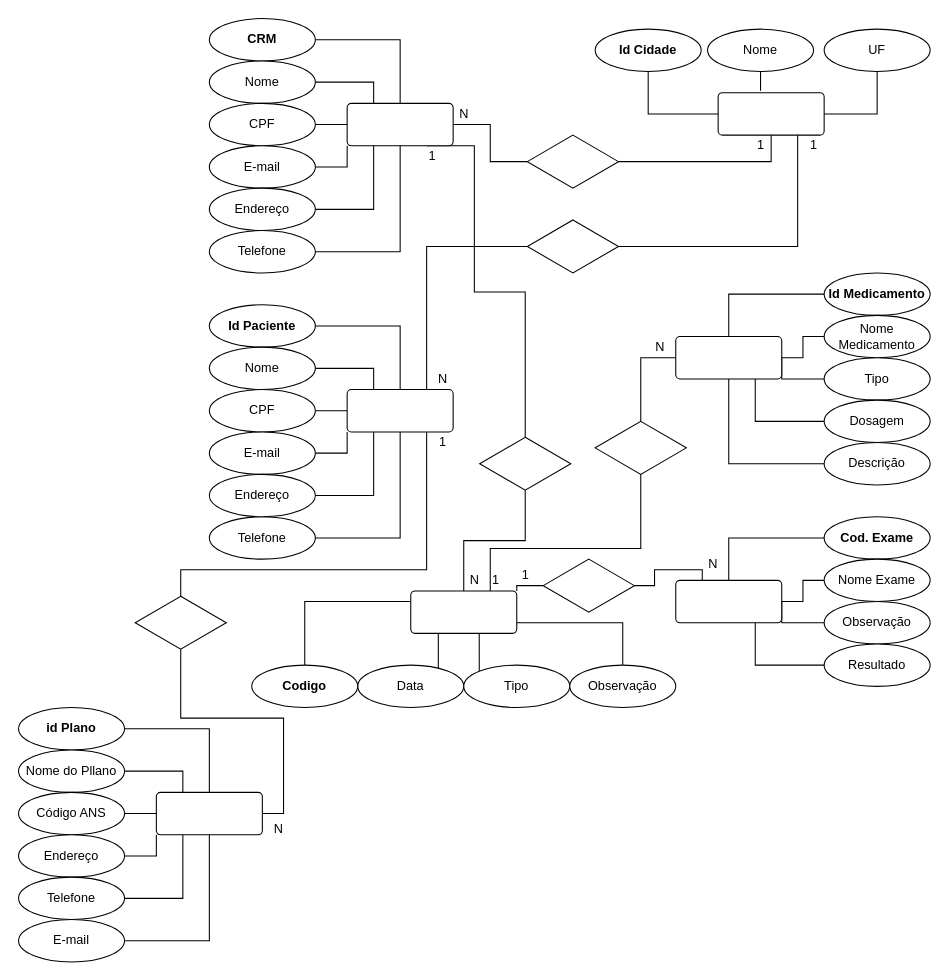
The diagram is 949 pixels wide and 980 high, and some of its shapes have lost their labels. Here are the shapes that lost their labels. From the top down, the centre of each, then its label:
At pixel 399 124: "Médicos".
At pixel 770 113: "CIdade".
At pixel 728 357: "Medicamentos".
At pixel 399 410: "Pacientes".
At pixel 463 611: "Consultas".
At pixel 728 601: "Exames".
At pixel 208 813: "Plano de Saude".
